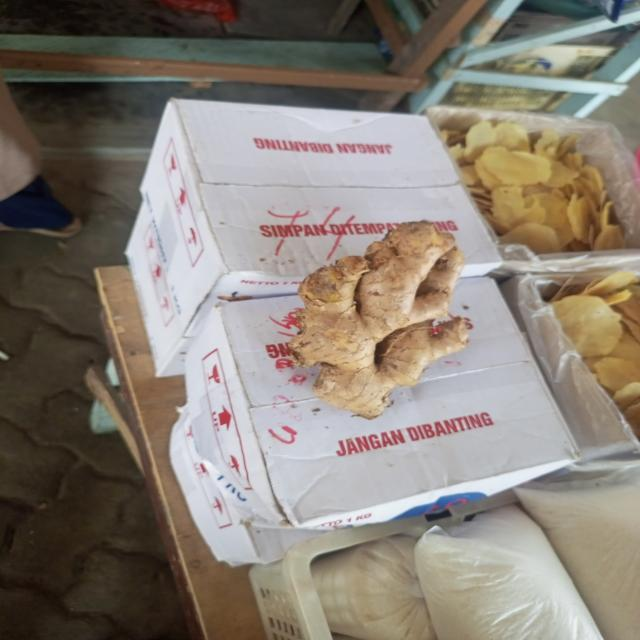ginger: (300, 226, 468, 412)
